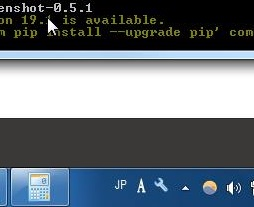cursor: (46, 16, 59, 36)
